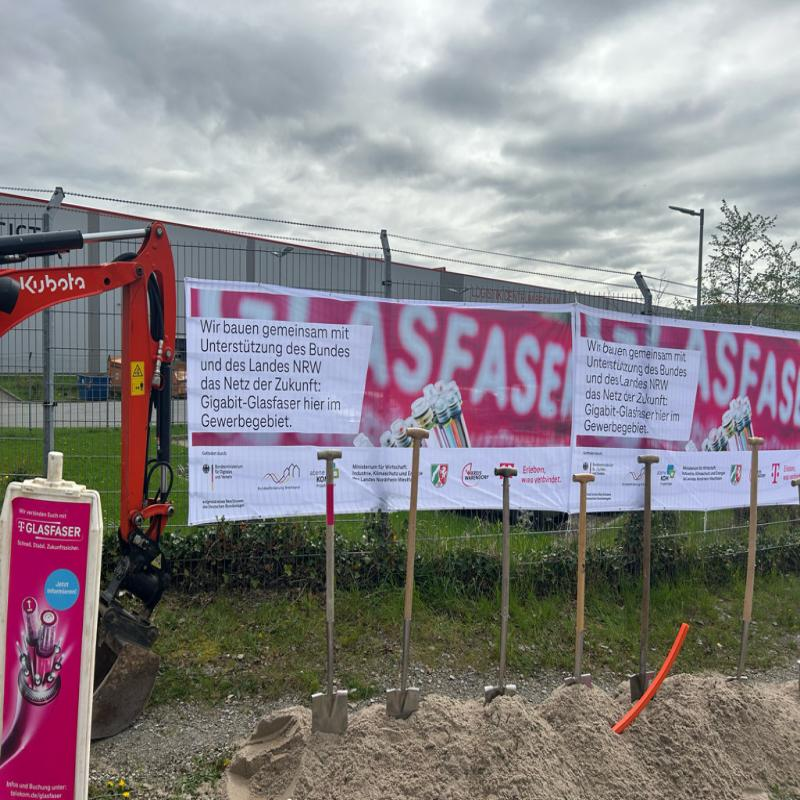Banner: (186, 280, 575, 515), (574, 303, 800, 504)
